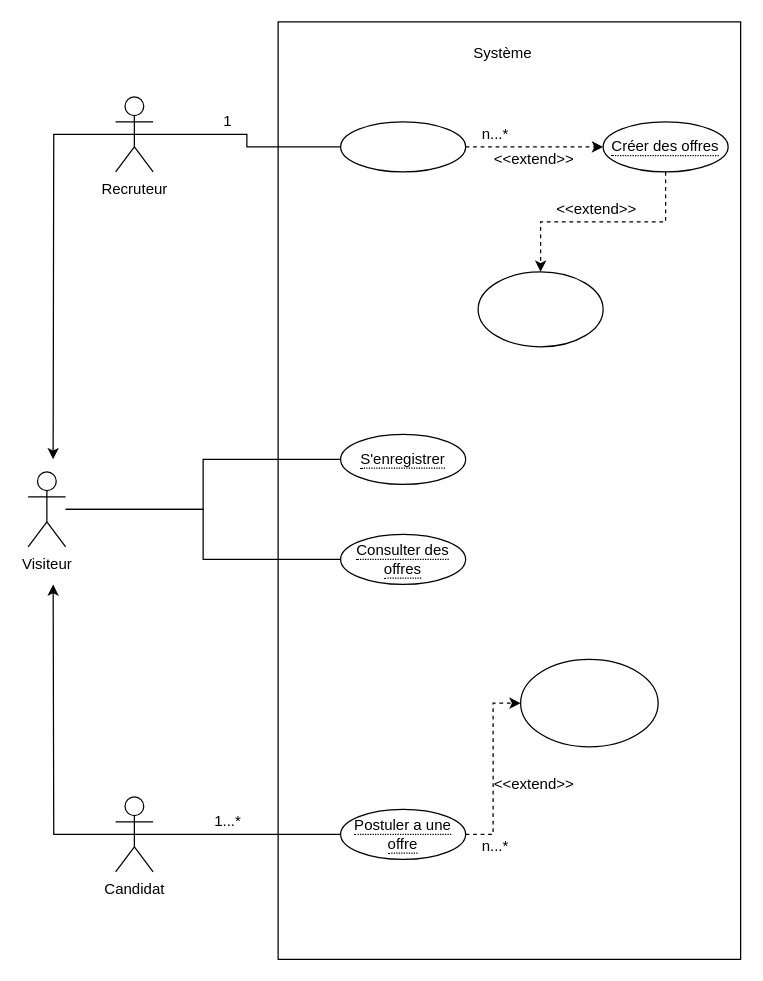
Image size: 763x981. Some labels were removed from this diagram. The box of each missing label's shape, as (x1, y1, x2, y2) in pixels:
Consulter les candidats postulant: (477, 271, 603, 347)
Créer une entreprise: (339, 121, 466, 172)
Voir les entreprise auquel il a postuler: (519, 658, 658, 747)
